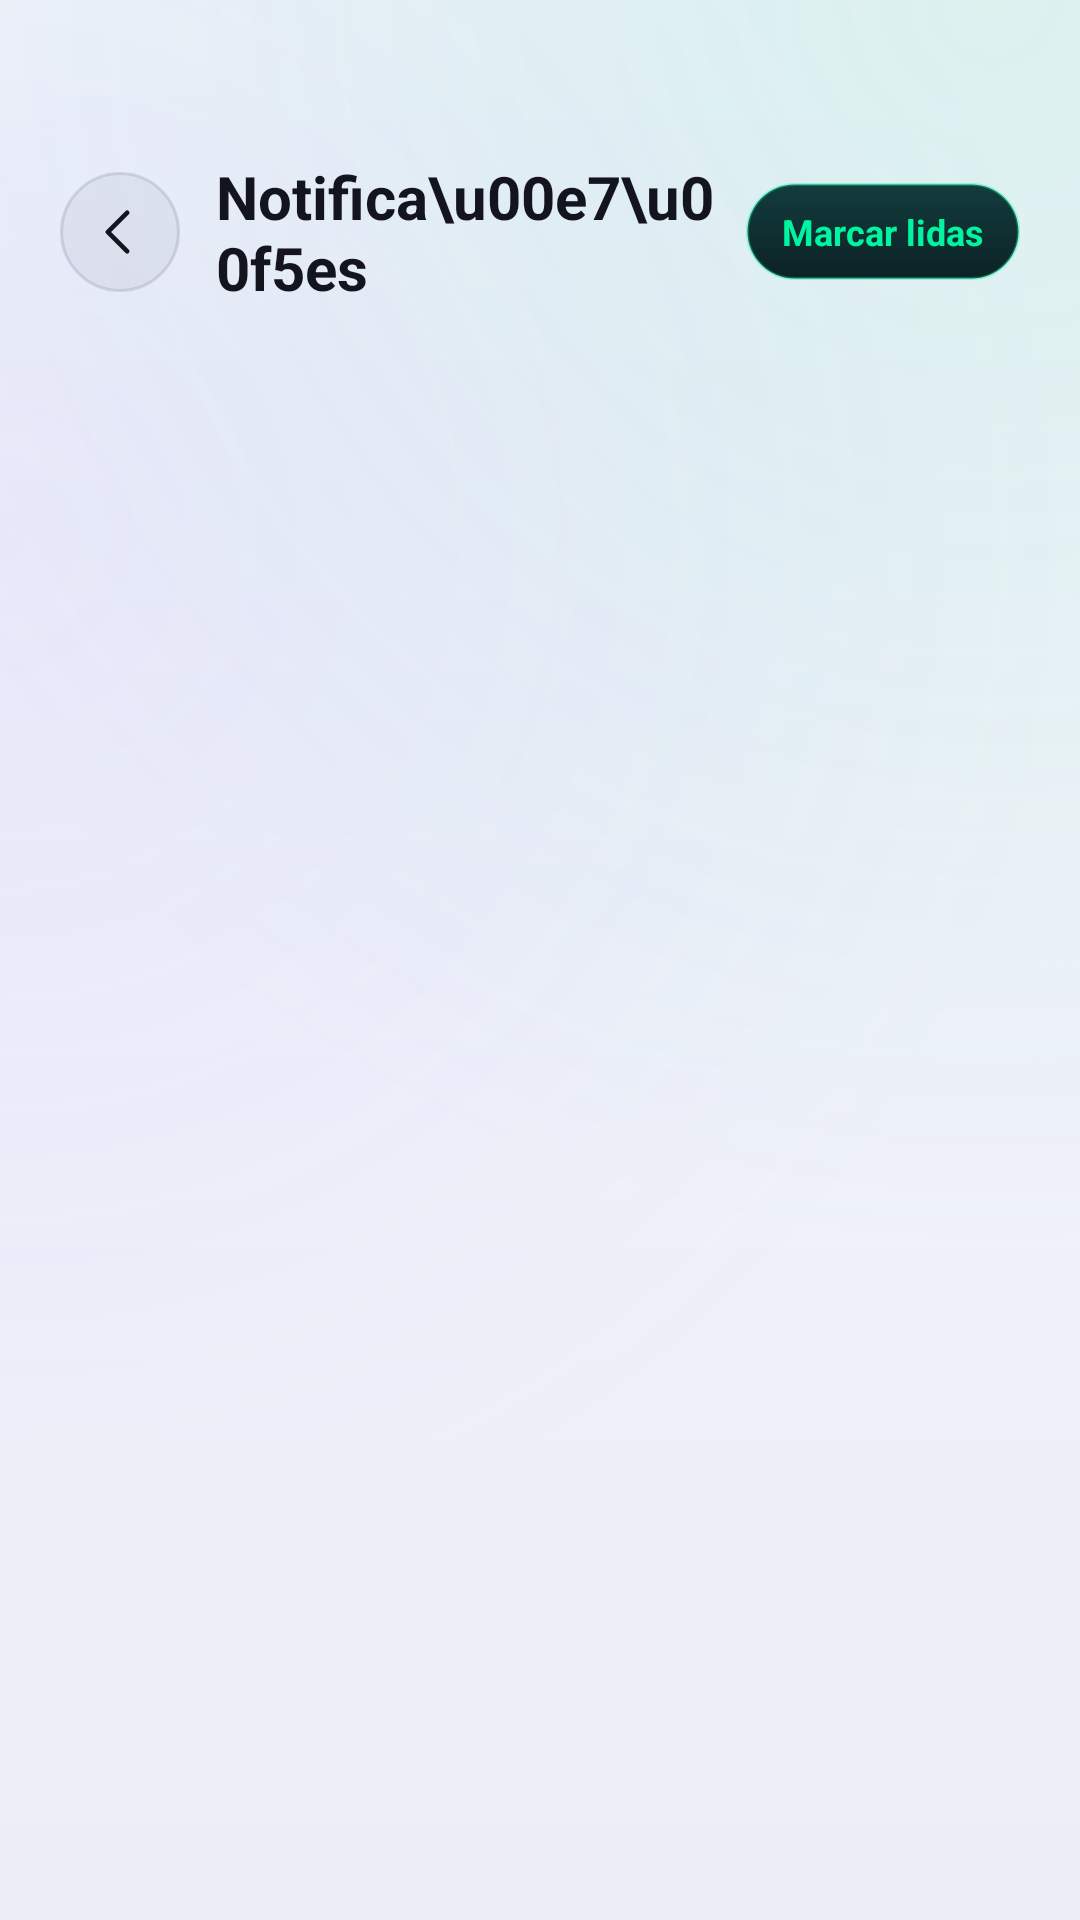

Icon click points for this 1080×1920 phone screenshot, format (x,y):
back: (120,232)
